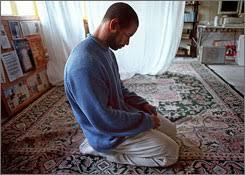julus: (63, 1, 179, 166)
